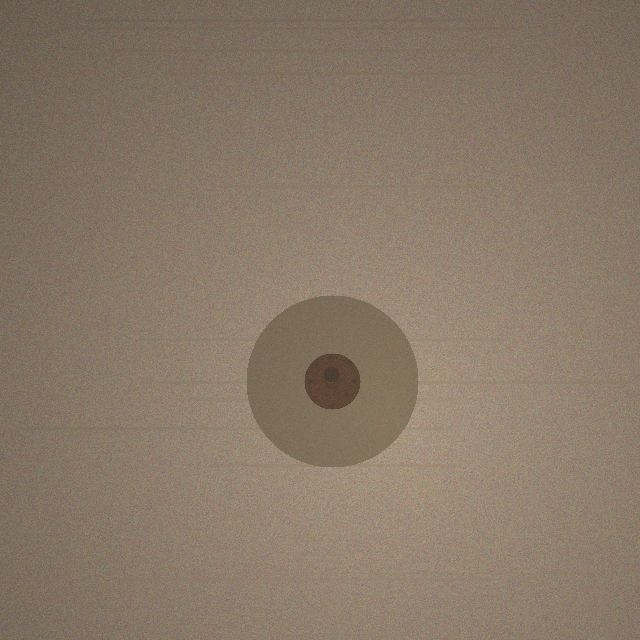cold_weld: (246, 295, 418, 467)
